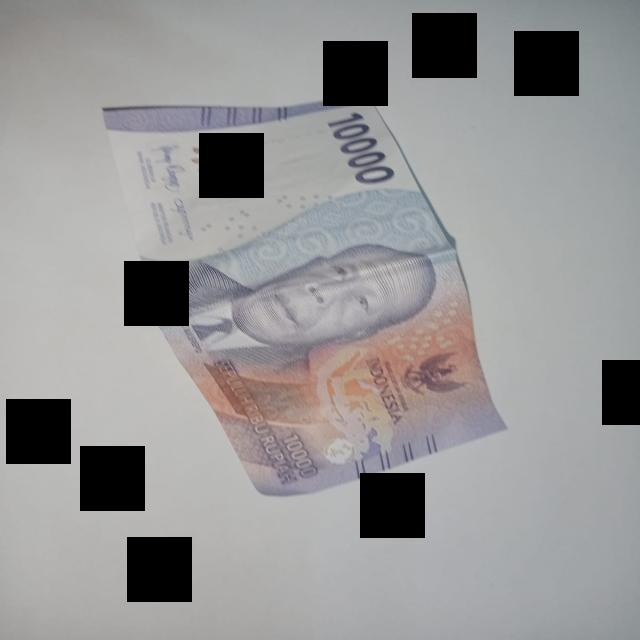sepuluhribu rupiah: (103, 94, 505, 495)
